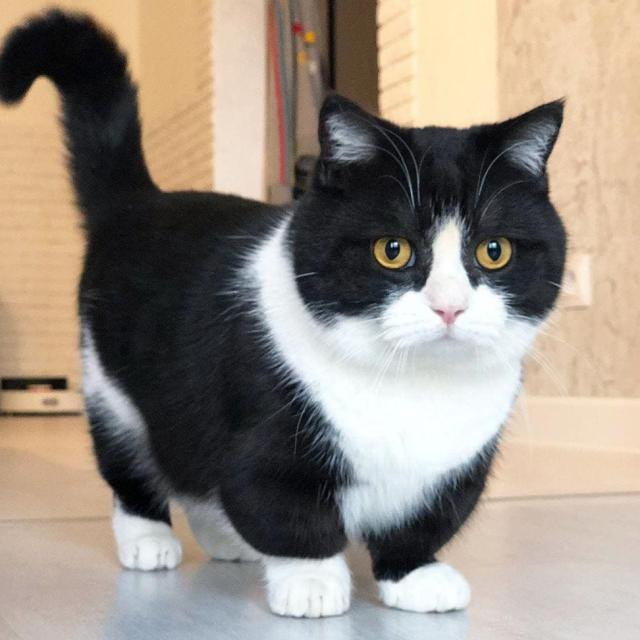Munchkin: (0, 0, 575, 623)
